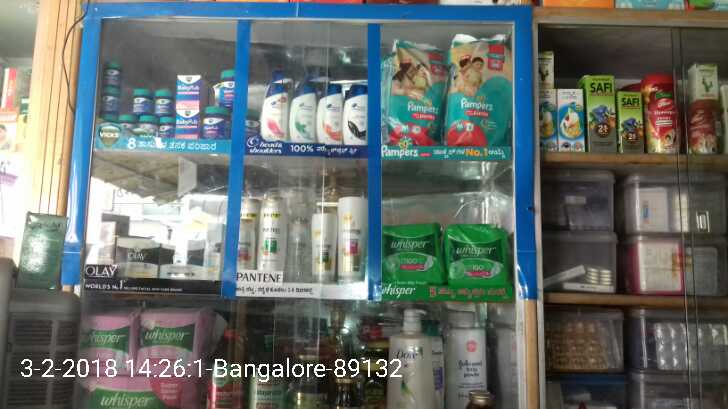beauty: (337, 190, 368, 286), (305, 210, 338, 284), (260, 197, 287, 282), (114, 234, 160, 281), (261, 82, 291, 142), (342, 82, 369, 147), (288, 82, 316, 142), (318, 82, 344, 145), (205, 216, 225, 277), (96, 219, 114, 276)
pharmacy: (446, 38, 510, 147), (389, 36, 445, 146), (375, 220, 446, 289), (441, 226, 512, 292), (171, 104, 202, 142), (202, 103, 230, 138), (174, 74, 200, 108), (127, 87, 153, 116), (153, 90, 171, 119)
